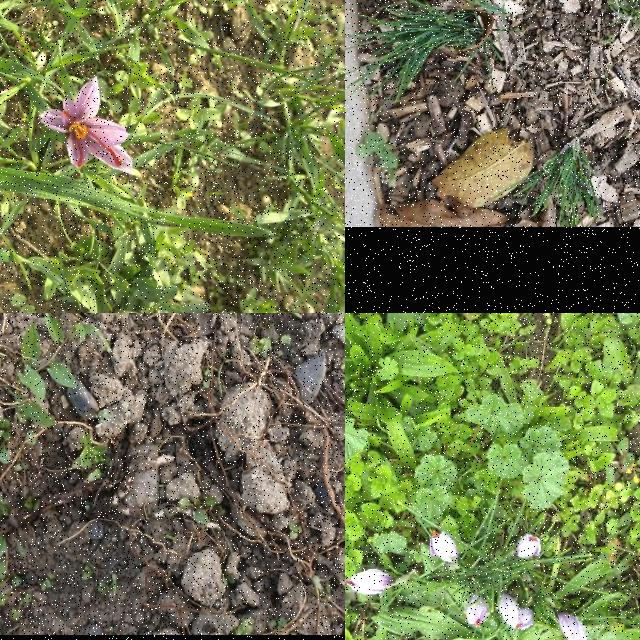flower: (39, 78, 132, 174), (345, 568, 395, 595), (429, 531, 459, 565), (557, 610, 587, 640), (466, 594, 489, 628), (516, 534, 542, 560)
overlap: (498, 593, 536, 631)
